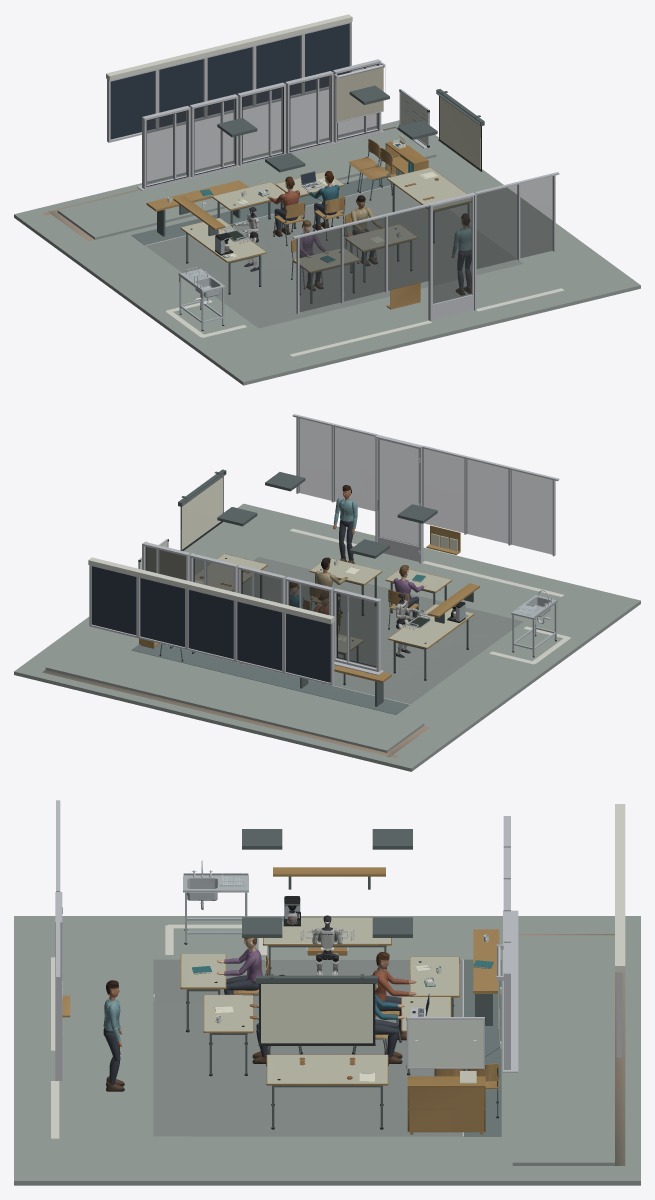
File: mini.glb
3 renders of one model, top to bottom at view 1: azimuth 30°, elevation 25°; view 2: azimuth 150°, elevation 25°; view 3: azimuth 270°, elevation 25°, orthographic. The views are drawn at different scales.
Parts seen in each view (by area): view 1: part/ceiling/light_housings, part/corridor_extension/partition_glass, part/chair_fourth/plywood_back; view 2: part/ceiling/light_housings, part/corridor_extension/partition_glass, part/chair_fourth/plywood_back; view 3: part/ceiling/light_housings, part/chair_fourth/plywood_back.
Part boxes in pixels (left/top/right/bottom): part/ceiling/light_housings: left=14, top=14, right=640, bottom=385; part/corridor_extension/partition_glass: left=147, top=65, right=553, bottom=312; part/chair_fourth/plywood_back: left=42, top=126, right=471, bottom=329; part/ceiling/light_housings: left=14, top=414, right=640, bottom=771; part/corridor_extension/partition_glass: left=145, top=418, right=552, bottom=667; part/chair_fourth/plywood_back: left=42, top=554, right=557, bottom=758; part/ceiling/light_housings: left=14, top=800, right=640, bottom=1185; part/chair_fourth/plywood_back: left=180, top=873, right=625, bottom=1165.
Size of the model in its own units: 9 by 2.75 by 9.
10 materials, 10 textured.
